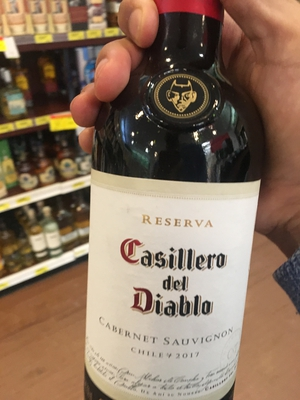casillero del diablo cabernet sauvignon: (78, 11, 262, 400)
